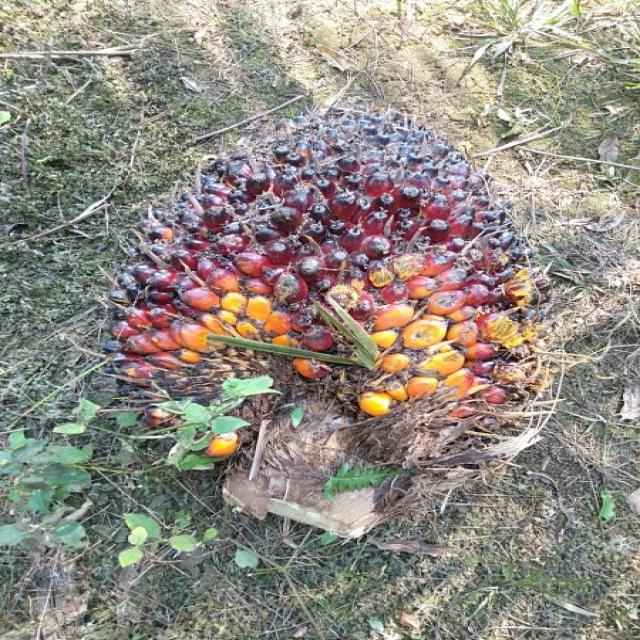fraksi 1: (48, 57, 578, 512)
